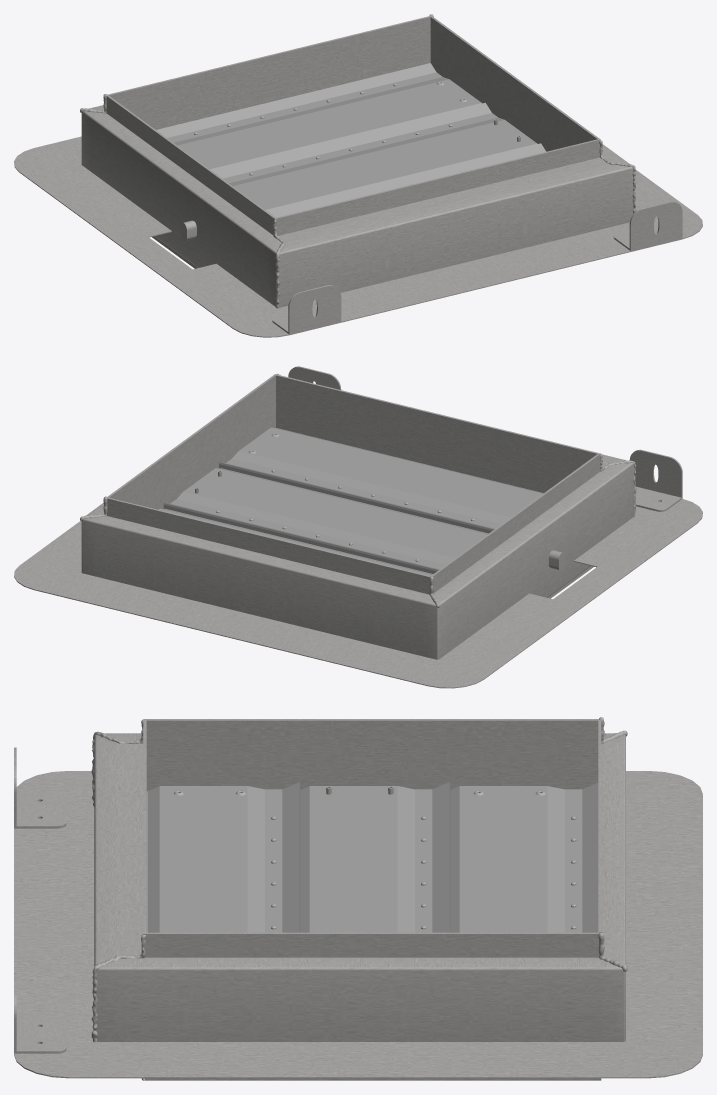
The model's file is DamperTest.gltf.
3 views of the same model, one above another, from view 1: azimuth 30°, elevation 25°; view 2: azimuth 150°, elevation 25°; view 3: azimuth 270°, elevation 25° (orthographic). The views are drawn at different scales.
Visible parts, largest first — view 1: Plane.001, Plane.007, Plane.005, Plane.006, Plane.004; view 2: Plane.001, Plane.007, Plane.005, Plane.006; view 3: Plane.001, Plane.007, Plane.005, Plane.006, Plane.004.
Boxes of the visible parts, bbox=[...] form: Plane.001: bbox=[81, 16, 633, 307]; Plane.007: bbox=[156, 63, 546, 217]; Plane.005: bbox=[14, 136, 702, 337]; Plane.006: bbox=[272, 201, 682, 334]; Plane.004: bbox=[273, 140, 636, 308]; Plane.001: bbox=[81, 374, 633, 659]; Plane.007: bbox=[159, 427, 543, 575]; Plane.005: bbox=[14, 499, 702, 688]; Plane.006: bbox=[288, 366, 682, 511]; Plane.001: bbox=[94, 719, 625, 1080]; Plane.007: bbox=[146, 782, 598, 932]; Plane.005: bbox=[14, 771, 702, 1078]; Plane.006: bbox=[14, 747, 66, 1053]; Plane.004: bbox=[91, 719, 146, 1080].
Bounding box in the file's own units: 2.77 × 0.6238 × 2.63.
2 materials, 1 textured.
